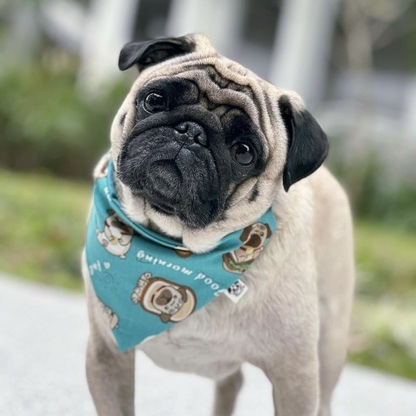Pug: (77, 27, 362, 416)
